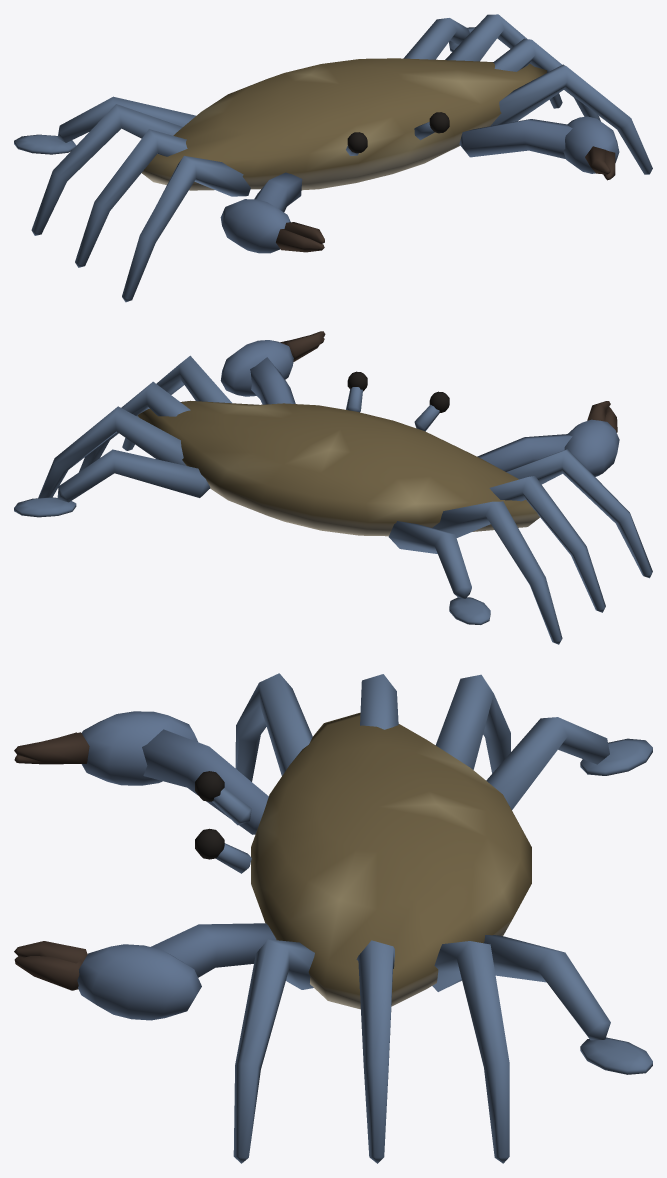
Rendered from crab-gazami.glb.
3 views of the same model, one above another, from view 1: azimuth 30°, elevation 25°; view 2: azimuth 150°, elevation 25°; view 3: azimuth 270°, elevation 25° (orthographic). The views are drawn at different scales.
Parts seen in each view (by area): view 1: crab-gazami; view 2: crab-gazami; view 3: crab-gazami.
Boxes of the visible parts, left/top/right/bottom form: crab-gazami: left=14, top=14, right=652, bottom=302; crab-gazami: left=14, top=331, right=652, bottom=644; crab-gazami: left=14, top=673, right=652, bottom=1163.
Size of the model in its own units: 0.4778 by 0.1068 by 0.3465.
